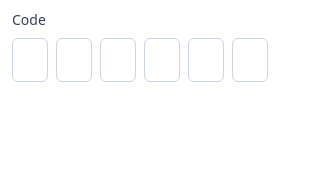
Test: InputOTP › distributes a pasted code across the slots
This screenshot has width=332, height=172.
Click the field named "Digit 1". click: (30, 60)
box: [12,38,48,82]
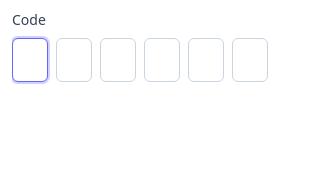
Type keys "123456"
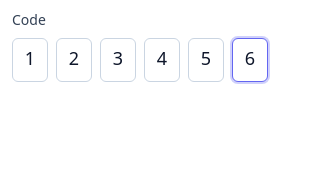
Result: the field named "Digit 6" holds "6" at [232,38,268,82]
